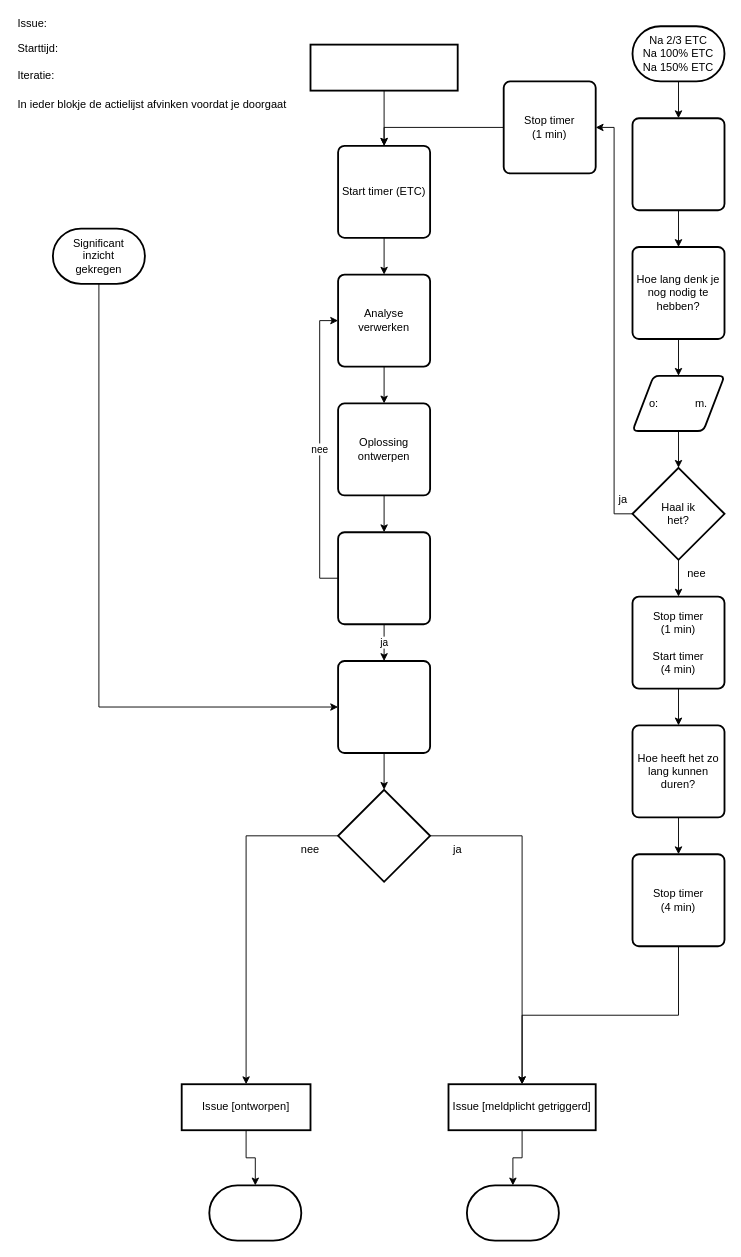
This 741x1257 diagram has some shape labels left out. The shapes that lost their labels are listed below. From the top down, each one's centre as x and y in pixels, then its label:
the point at 383,67: Issue [analyse goedgekeurd]
the point at 678,164: Start timer (1 min)
the point at 384,578: Evalueer of de deliverables correct en volledig zijn afgerond
the point at 384,706: Stop timer (ETC)
the point at 384,835: Bijzonder- heden gezien?
the point at 255,1212: Volg de review ontwerp
the point at 512,1212: Volg de meldplicht
